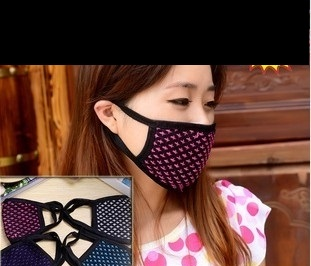face_mask: (117, 51, 218, 181)
